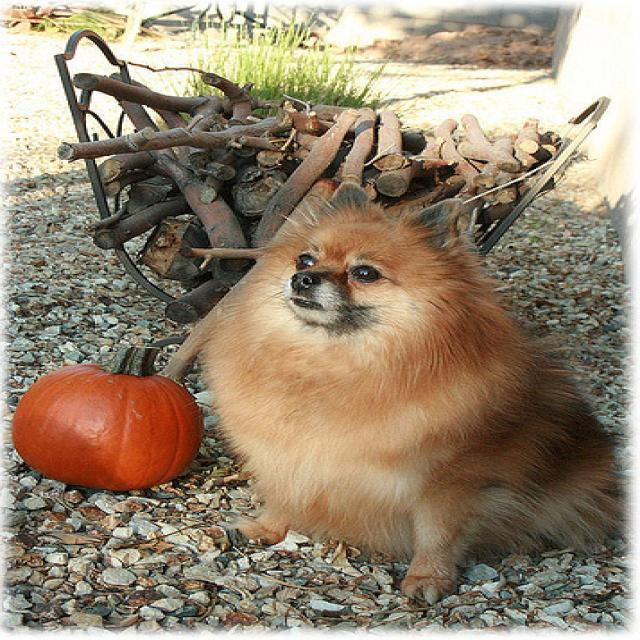dog-pomeranian: (185, 174, 636, 613)
